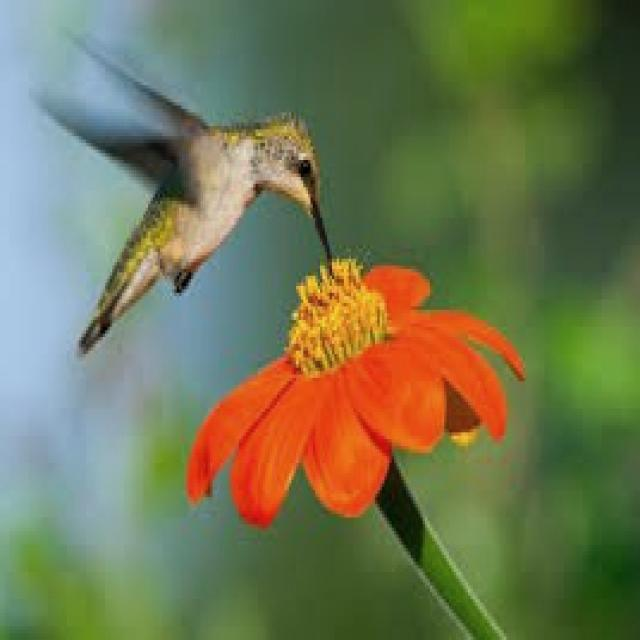hummingbird: (76, 92, 320, 351)
